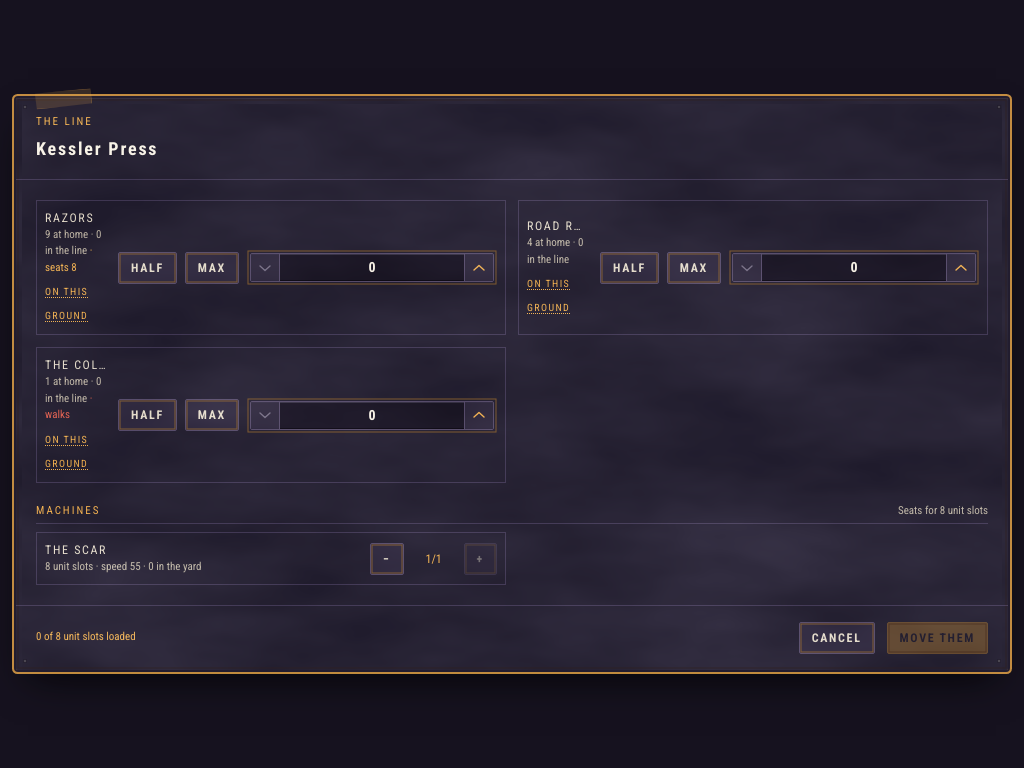
Test: what the machines will seat › spends the seats on whoever is picked first
The image size is (1024, 768).
Step 1. Replace the text in the number field with test id "line-road_reavers" with "3" → x=854, y=268, box [761,254,947,281]
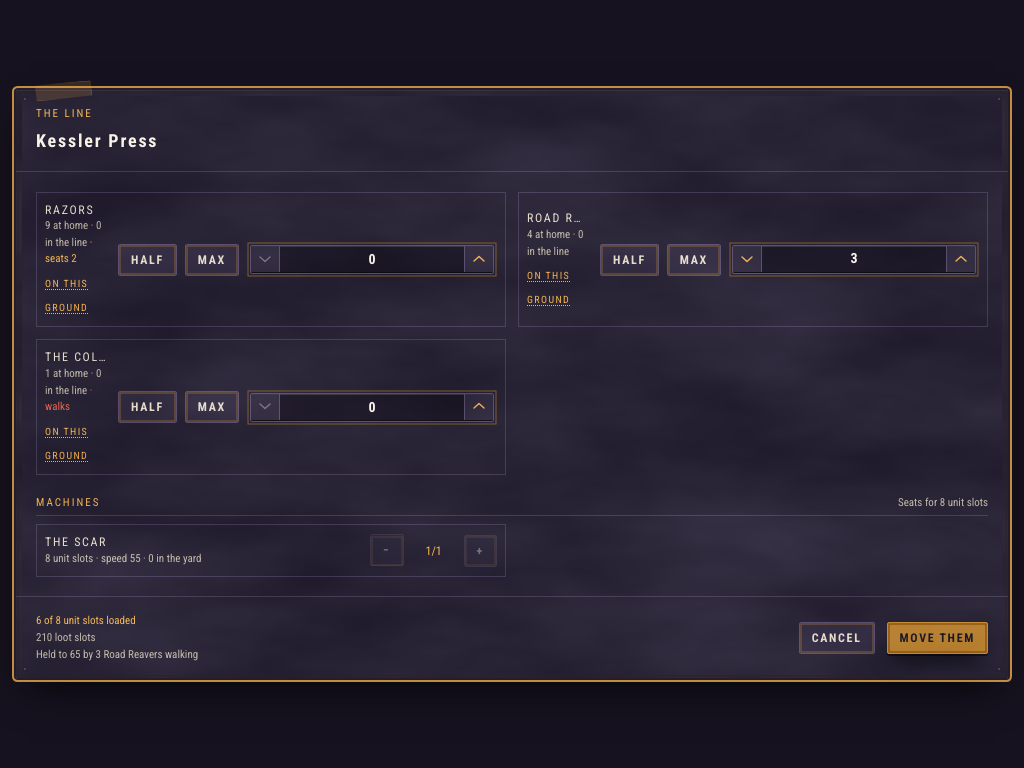
Result: the text with test id "deploy-seats" reads "6 of 8 unit slots loaded" at [36,614,136,627]
